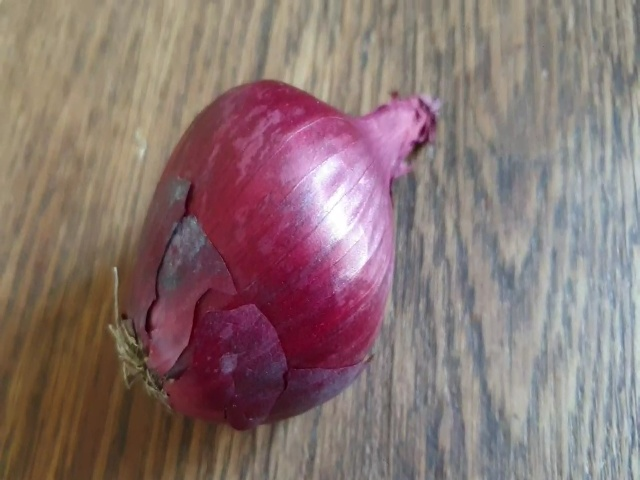red_onion: (113, 70, 442, 429)
